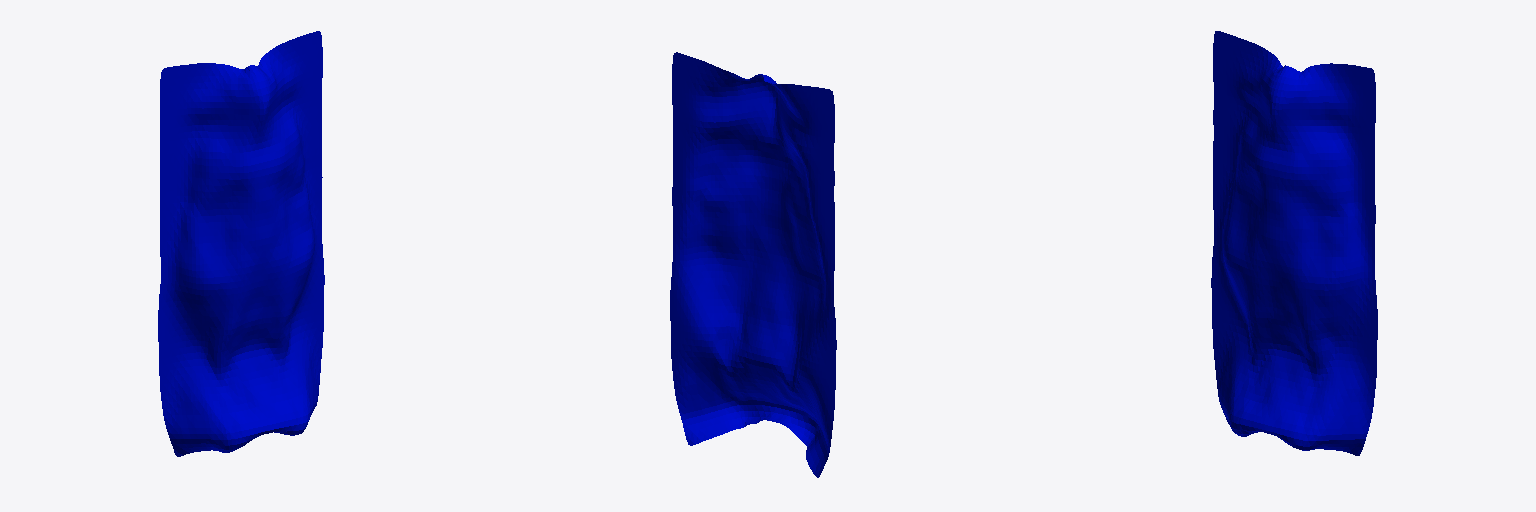
Rendered from drap_corps.obj.
The picture shows the model from 3 angles: view 1: azimuth 30°, elevation 25°; view 2: azimuth 150°, elevation 25°; view 3: azimuth 330°, elevation 25°; orthographic projection.
Visible parts, largest first — view 1: Plane; view 2: Plane; view 3: Plane.
Boxes of the visible parts, <box> form: Plane: <box>158,31,324,456</box>; Plane: <box>670,52,836,477</box>; Plane: <box>1211,31,1377,455</box>.
Size of the model in its own units: 10.19 by 22.95 by 3.11.